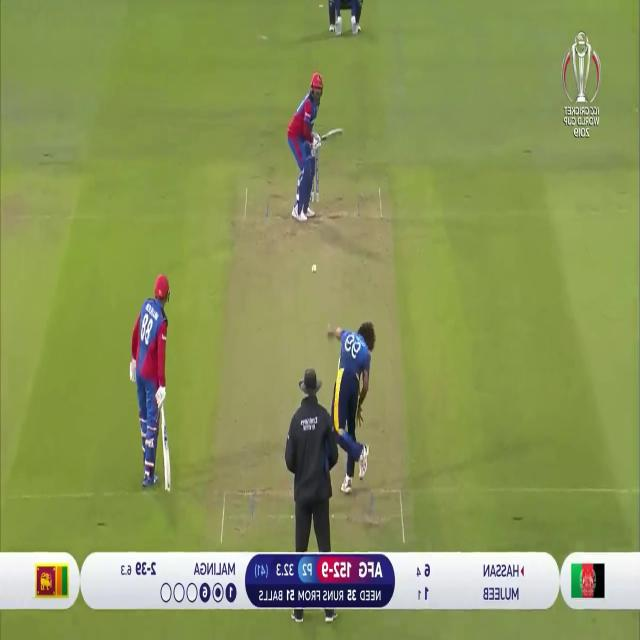ball: (307, 260, 321, 280)
